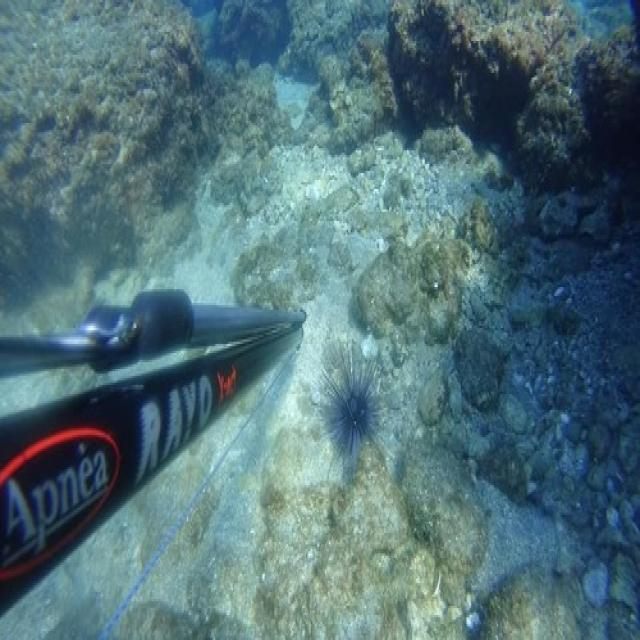Urchin: (308, 339, 394, 474)
